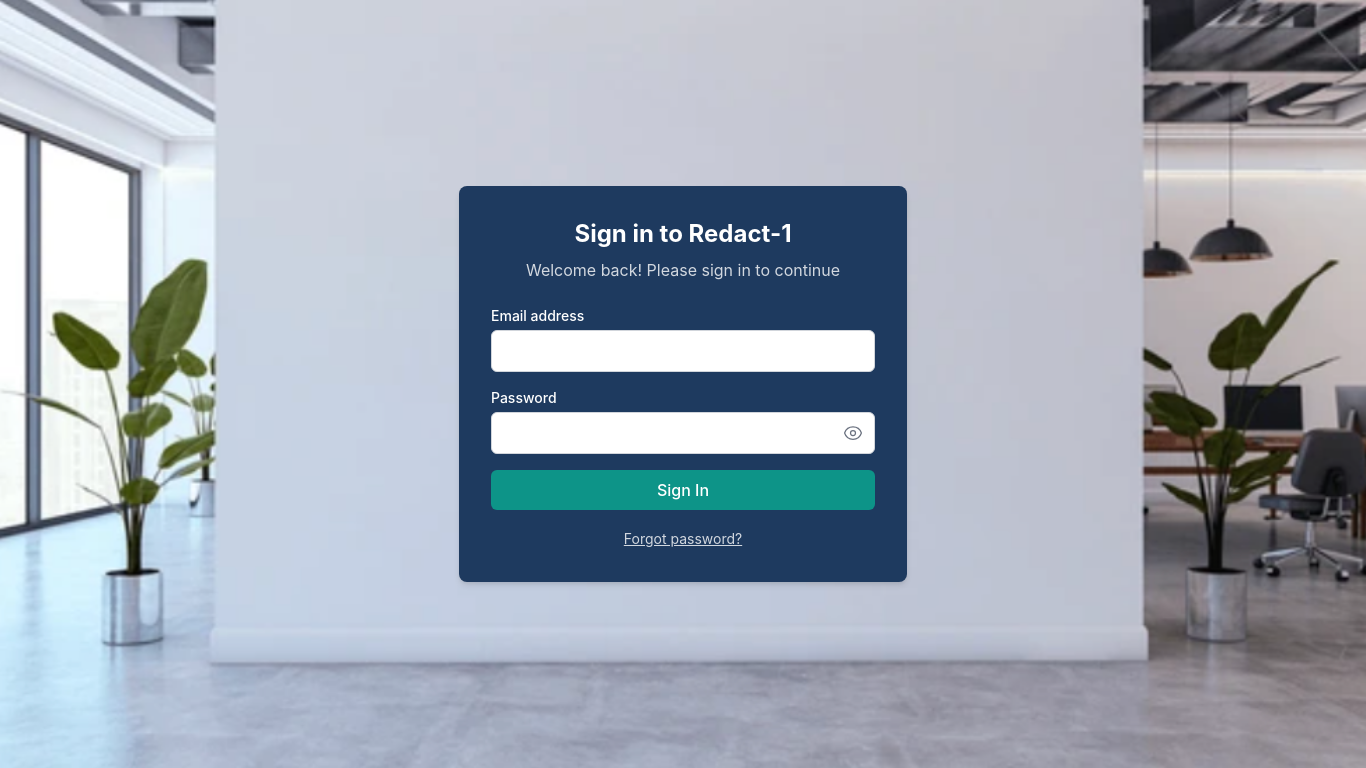
Test case: SignInPage › Sign In Form › shows MFA verification screen when needs_second_factor
In the field: coordinates (683, 351) [491,330,875,372], type "test@example.com"
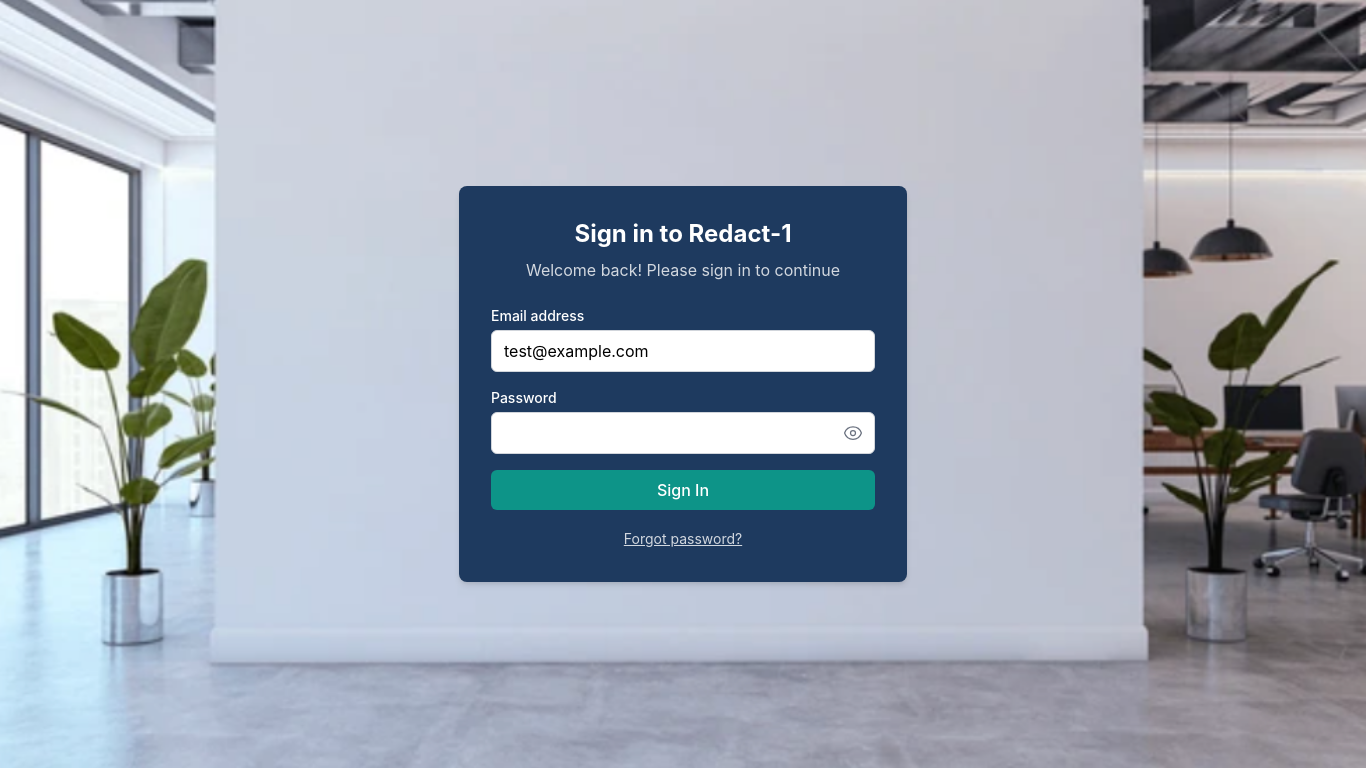
In the password field: coordinates (683, 433) [491,412,875,454], type "password123"
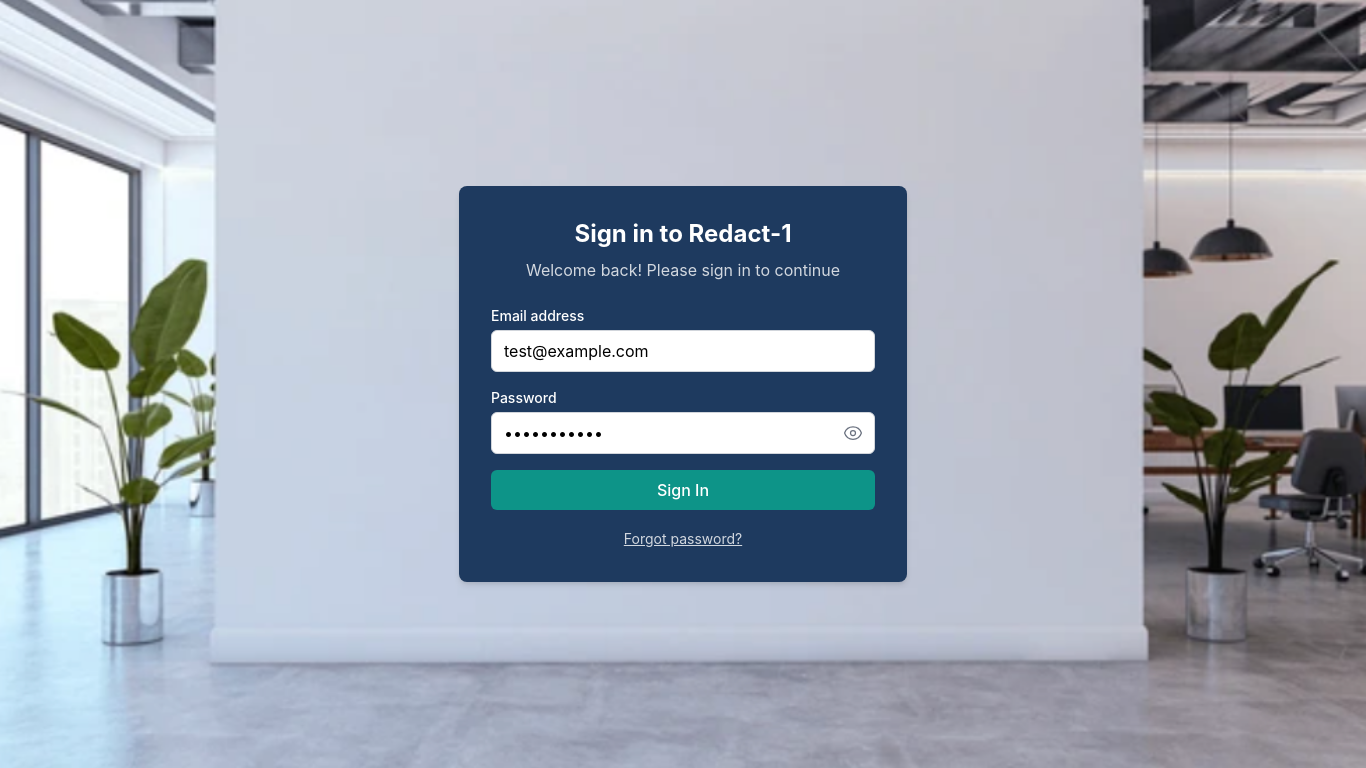
Click the button "Sign In": coordinates (683, 490) [491,470,875,510]
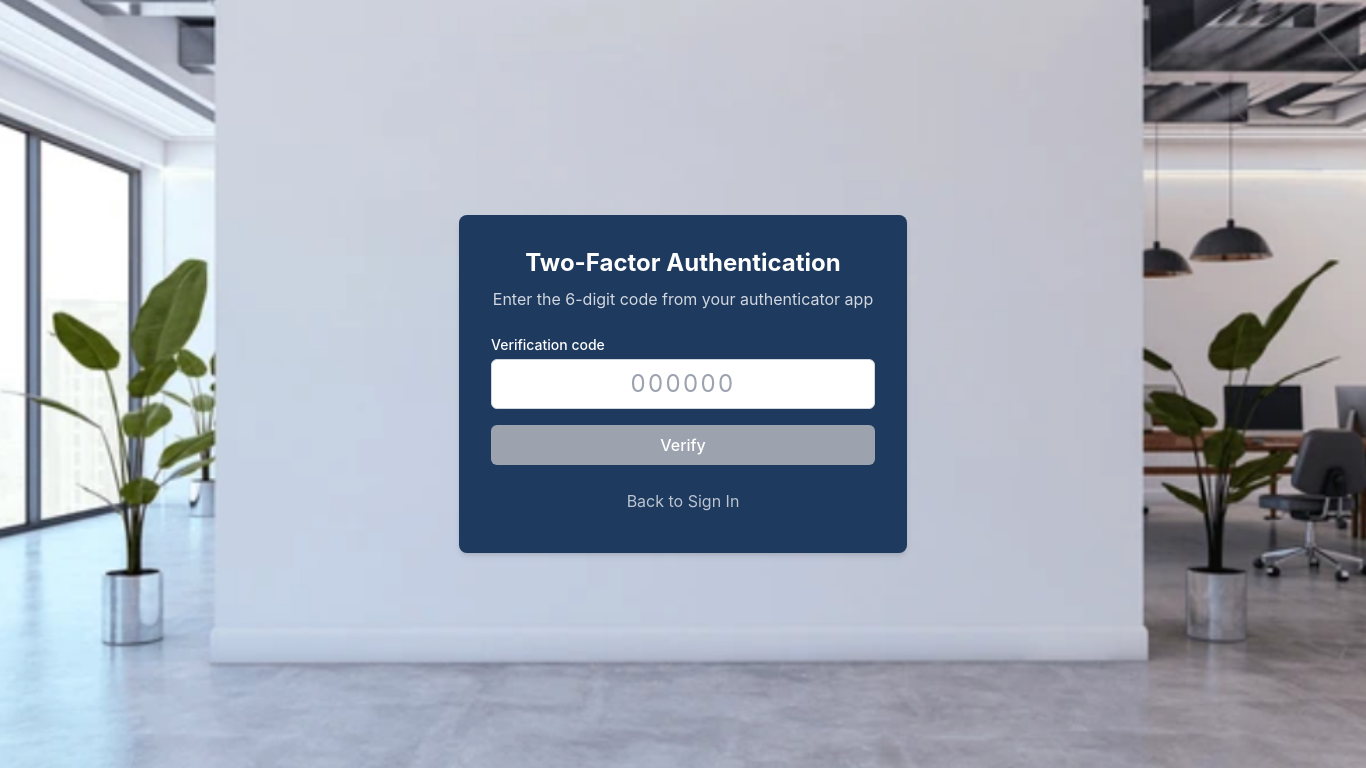
Expected: the heading "Two-Factor Authentication" is shown, [525,248,841,277]
Expected: the text "Enter the 6-digit code from your authenticator app" is shown, [491,287,875,311]
